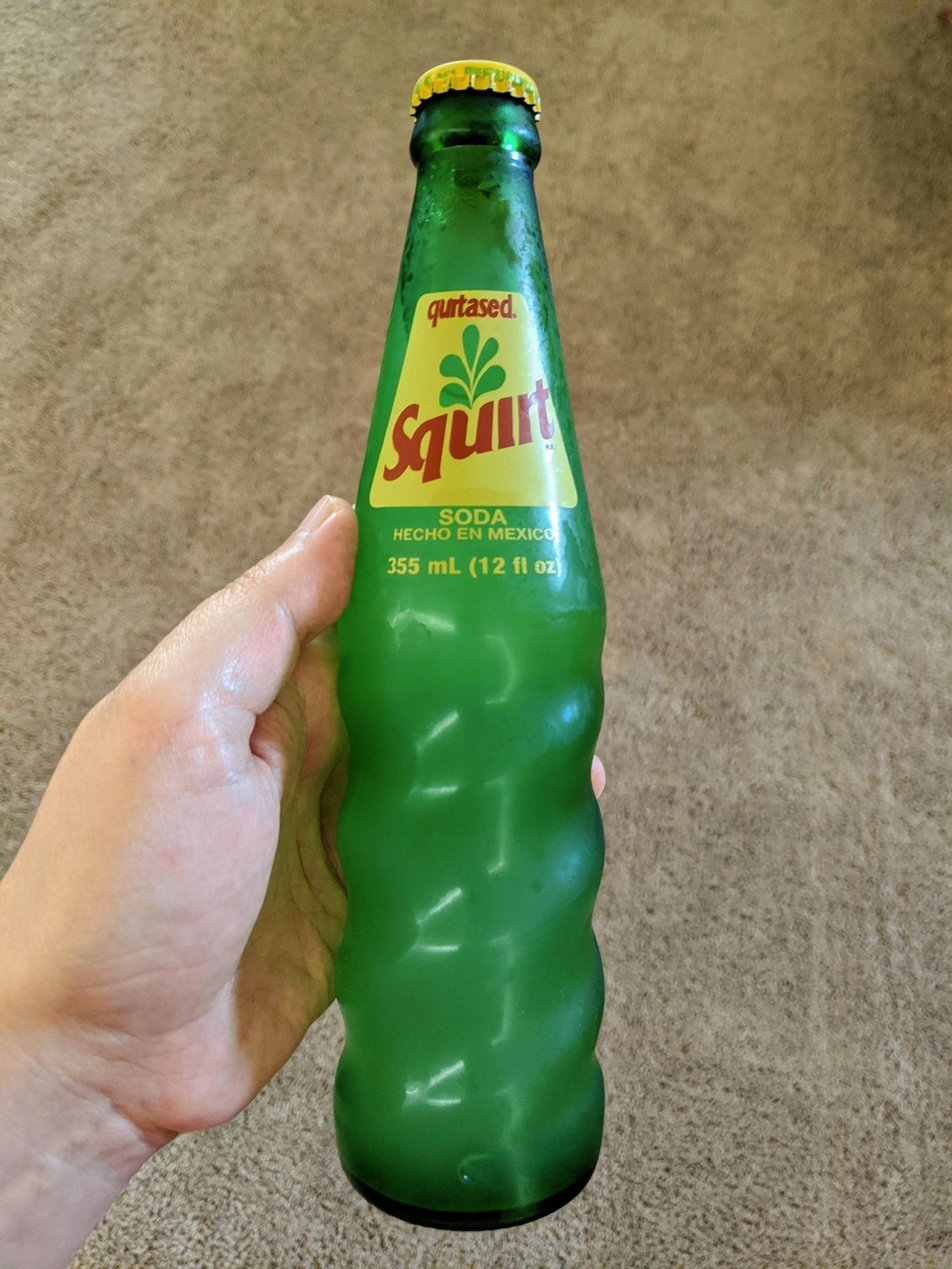bottle-glass: (321, 49, 620, 1241)
